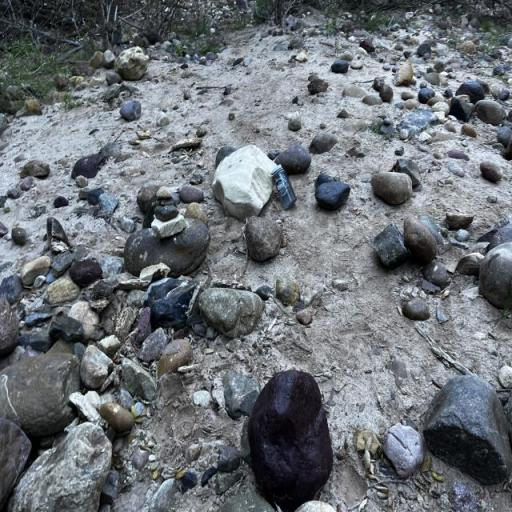bottle: (267, 164, 297, 210)
